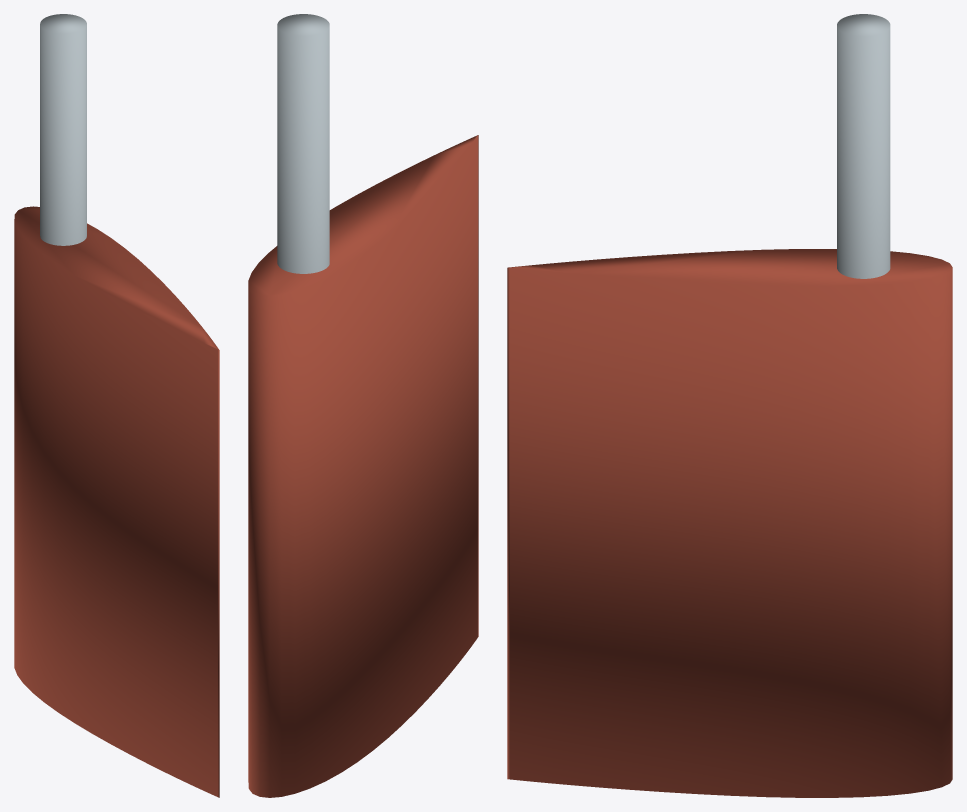
Rendered from rudder_0950.glb.
3 views of the same model, side by side, from view 1: azimuth 30°, elevation 25°; view 2: azimuth 150°, elevation 25°; view 3: azimuth 270°, elevation 25° (orthographic). The views are drawn at different scales.
Visible parts, largest first — view 1: Balanced foil, Rudder stock; view 2: Balanced foil, Rudder stock; view 3: Balanced foil, Rudder stock.
Part boxes in pixels (x1=…): Balanced foil: x1=14, y1=206, x2=219, y2=797; Rudder stock: x1=40, y1=14, x2=86, y2=245; Balanced foil: x1=248, y1=135, x2=478, y2=797; Rudder stock: x1=277, y1=14, x2=329, y2=273; Balanced foil: x1=507, y1=249, x2=952, y2=797; Rudder stock: x1=837, y1=14, x2=890, y2=278.
Bounding box in the file's own units: 0.1496 × 1.4 × 0.75.
